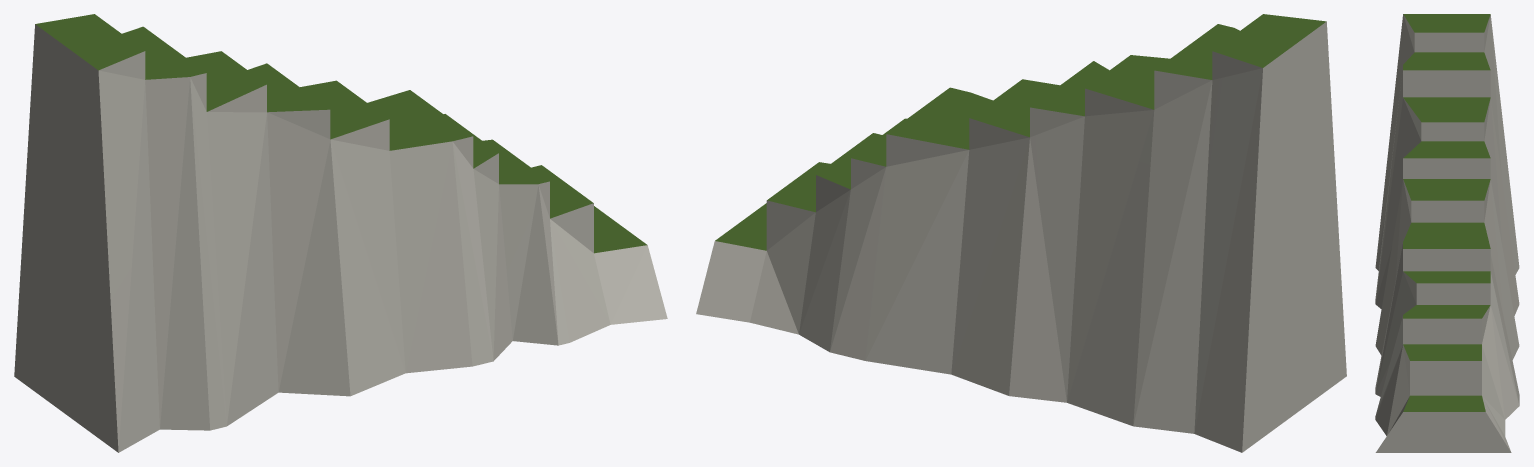
File: Terrain_Modular_Tiles_Grass_Rock_Stairs_03.fbx
3 renders of one model, left to right at view 1: azimuth 30°, elevation 25°; view 2: azimuth 150°, elevation 25°; view 3: azimuth 270°, elevation 25°, orthographic. The views are drawn at different scales.
Visible parts, largest first — view 1: Terrain_Modular_Tiles_Grass_Rock_Stairs_03; view 2: Terrain_Modular_Tiles_Grass_Rock_Stairs_03; view 3: Terrain_Modular_Tiles_Grass_Rock_Stairs_03.
Boxes of the visible parts, <box> form: Terrain_Modular_Tiles_Grass_Rock_Stairs_03: <box>14,14,667,452</box>; Terrain_Modular_Tiles_Grass_Rock_Stairs_03: <box>696,14,1346,452</box>; Terrain_Modular_Tiles_Grass_Rock_Stairs_03: <box>1375,14,1519,452</box>.
Size of the model in its own units: 3750 by 2400 by 1234.
